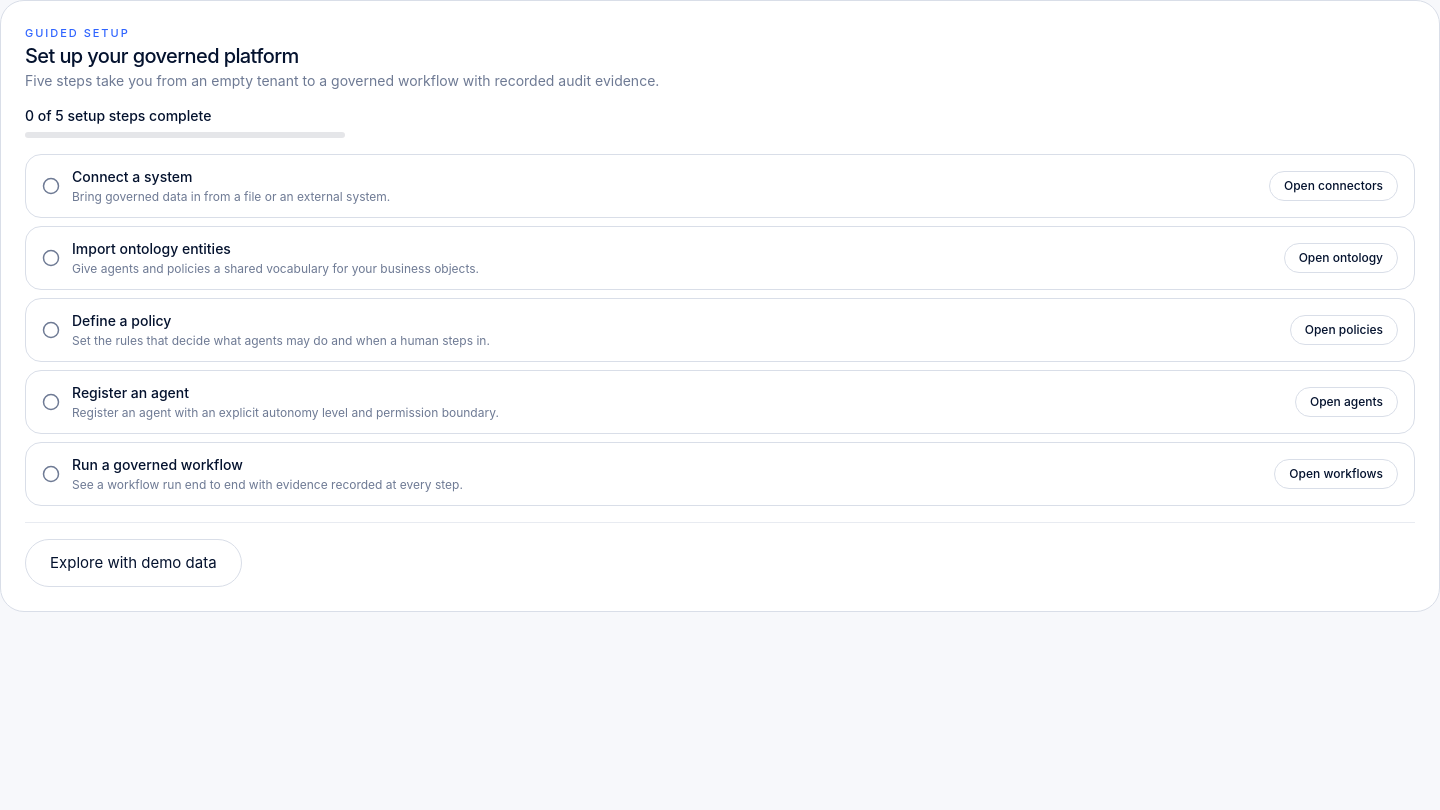
Test: PlatformOverview demo bootstrap CTA › renders the bootstrap failure inline on the checklist without refreshing
Click the button "Explore with demo data": x=133, y=563 [25, 539, 242, 587]
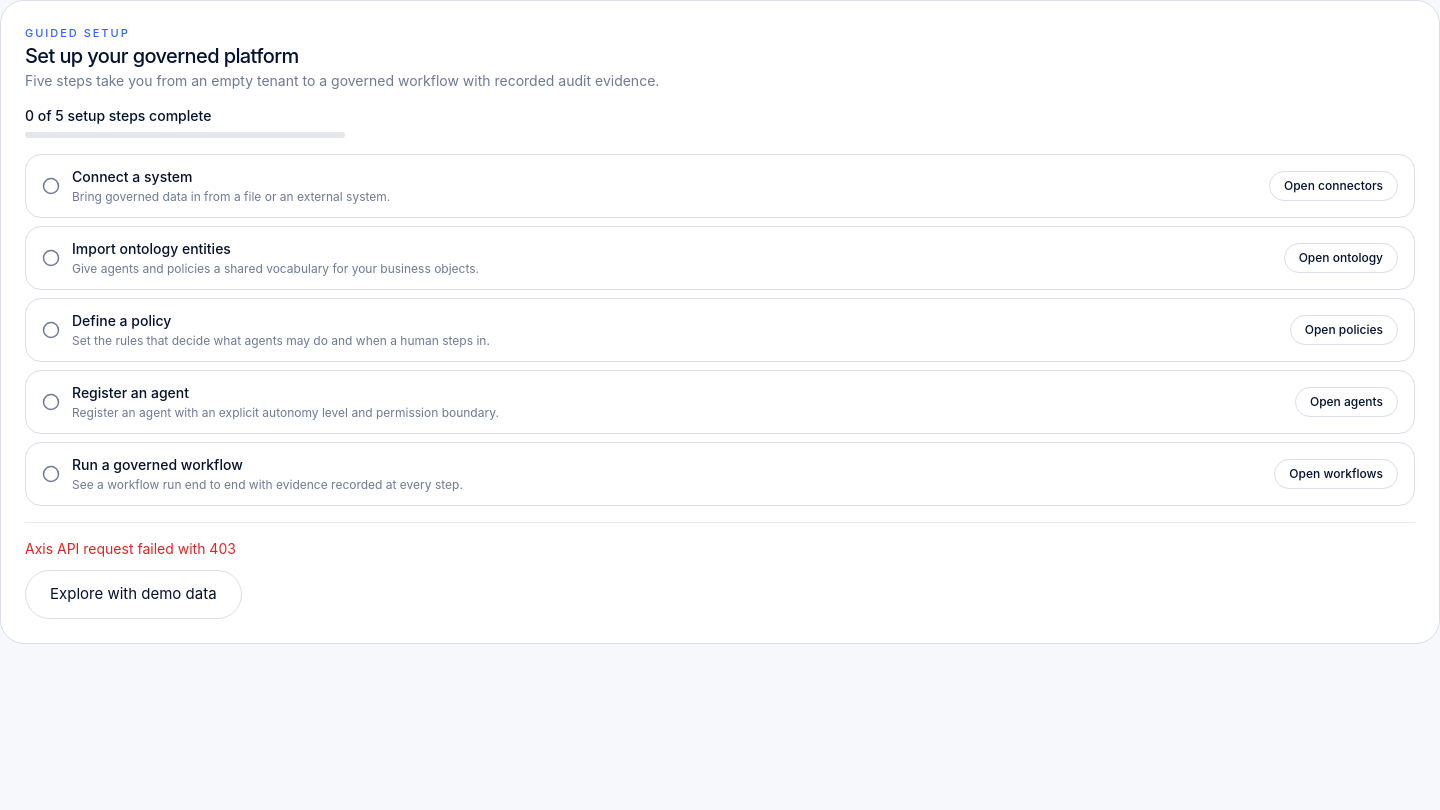
Check: the button "Explore with demo data" is enabled, box [25, 570, 242, 619]
Check: the text "Axis API request failed with 403" is shown, box [25, 540, 236, 557]
